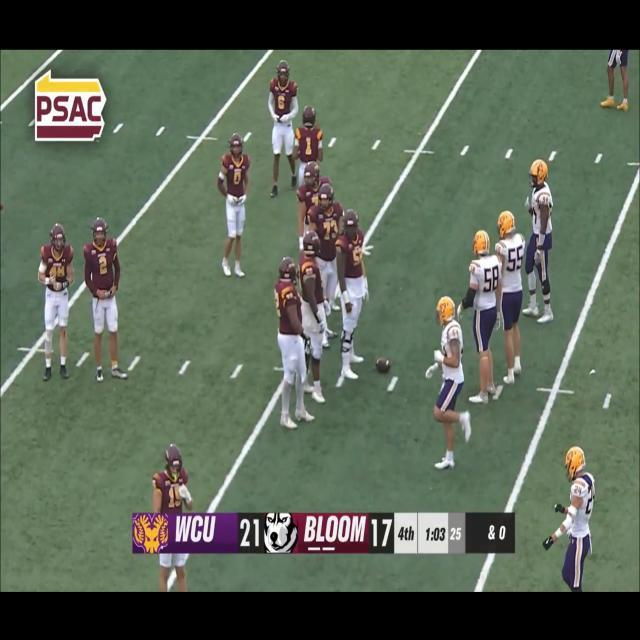football: (375, 356, 392, 374)
